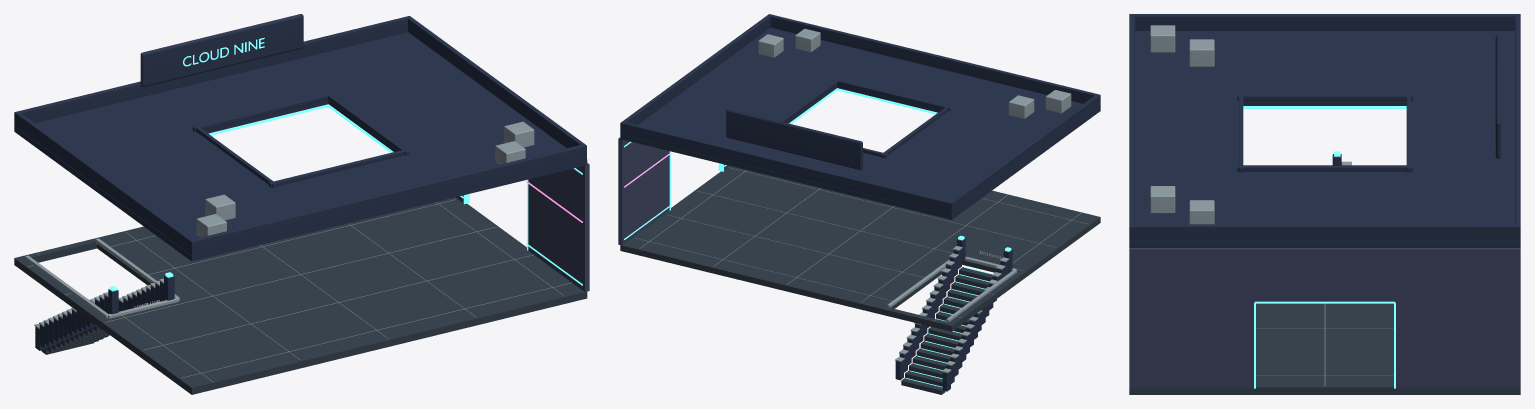
Rendered from hall-patch.glb.
The picture shows the model from 3 angles, left to right: view 1: azimuth 30°, elevation 25°; view 2: azimuth 150°, elevation 25°; view 3: azimuth 270°, elevation 25°; orthographic projection. The views are drawn at different scales.
Parts seen in each view (by area): view 1: Hall floor west, Roof west, Roof east, Hall floor north, Parapet.003, Roof south, Hall wall west north, Roof sign panel, Parapet.002, Roof north, Parapet.001, Parapet (+11 smaller); view 2: Hall floor west, Roof east, Roof west, Parapet.002, Roof north, Hall floor north, Hall wall west south, Parapet.003, Roof sign panel, Parapet.001, Parapet, Hall floor east (+8 smaller); view 3: Roof east, Roof west, Hall wall west north, Hall wall west south, Hall floor west, Hall arch lintel, Roof north, Roof south, Parapet, Parapet.001, Parapet.002, Parapet.003 (+11 smaller).
Boxes of the visible parts, left/top/right/bottom form: Hall floor west: left=93, top=197, right=587, bottom=375; Roof west: left=280, top=32, right=587, bottom=196; Roof east: left=14, top=95, right=323, bottom=261; Hall floor north: left=109, top=302, right=270, bottom=392; Parapet.003: left=189, top=145, right=586, bottom=254; Roof south: left=149, top=63, right=328, bottom=133; Hall wall west north: left=528, top=163, right=589, bottom=291; Roof sign panel: left=140, top=14, right=303, bottom=86; Parapet.002: left=14, top=16, right=410, bottom=126; Roof north: left=275, top=155, right=455, bottom=229; Parapet.001: left=15, top=111, right=195, bottom=255; Parapet: left=406, top=16, right=586, bottom=159; Hall floor west: left=620, top=166, right=1033, bottom=315; Roof east: left=841, top=80, right=1100, bottom=219; Roof west: left=620, top=27, right=877, bottom=165; Parapet.002: left=620, top=122, right=953, bottom=214; Roof north: left=837, top=54, right=987, bottom=112; Hall floor north: left=962, top=201, right=1092, bottom=272; Hall wall west south: left=618, top=137, right=669, bottom=245; Parapet.003: left=769, top=14, right=1100, bottom=106; Roof sign panel: left=726, top=109, right=862, bottom=170; Parapet.001: left=948, top=94, right=1099, bottom=214; Parapet: left=620, top=14, right=771, bottom=134; Hall floor east: left=944, top=215, right=1100, bottom=331; Roof east: left=1135, top=31, right=1514, bottom=105; Roof west: left=1129, top=170, right=1520, bottom=247; Hall wall west north: left=1129, top=248, right=1254, bottom=388; Hall wall west south: left=1395, top=248, right=1520, bottom=388; Hall floor west: left=1129, top=303, right=1520, bottom=394; Hall arch lintel: left=1255, top=248, right=1394, bottom=301; Roof north: left=1135, top=100, right=1238, bottom=170; Roof south: left=1411, top=100, right=1514, bottom=170; Parapet: left=1129, top=224, right=1520, bottom=241; Parapet.001: left=1129, top=14, right=1520, bottom=30; Parapet.002: left=1515, top=14, right=1520, bottom=240; Parapet.003: left=1129, top=14, right=1134, bottom=240.
Size of the model in its own units: 18.13 by 12.04 by 14.
